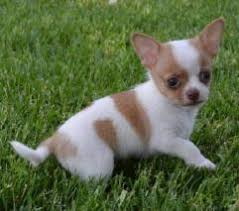chihuahua: (10, 17, 239, 190)
